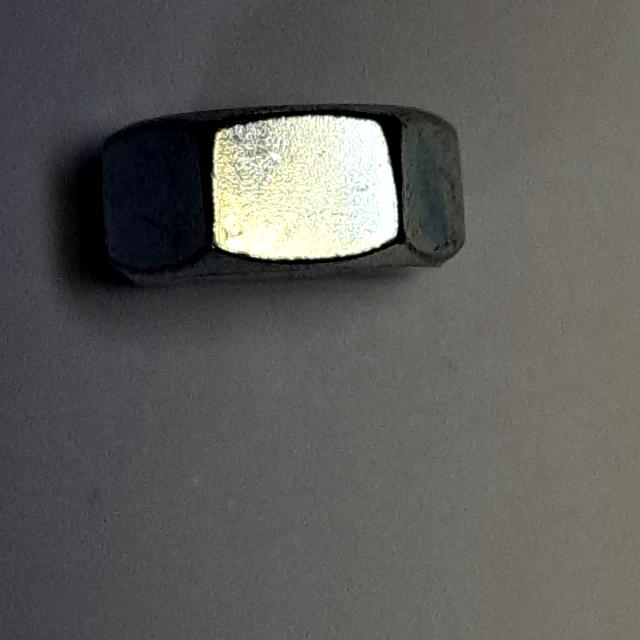Side_Excellent: (87, 87, 488, 310)
